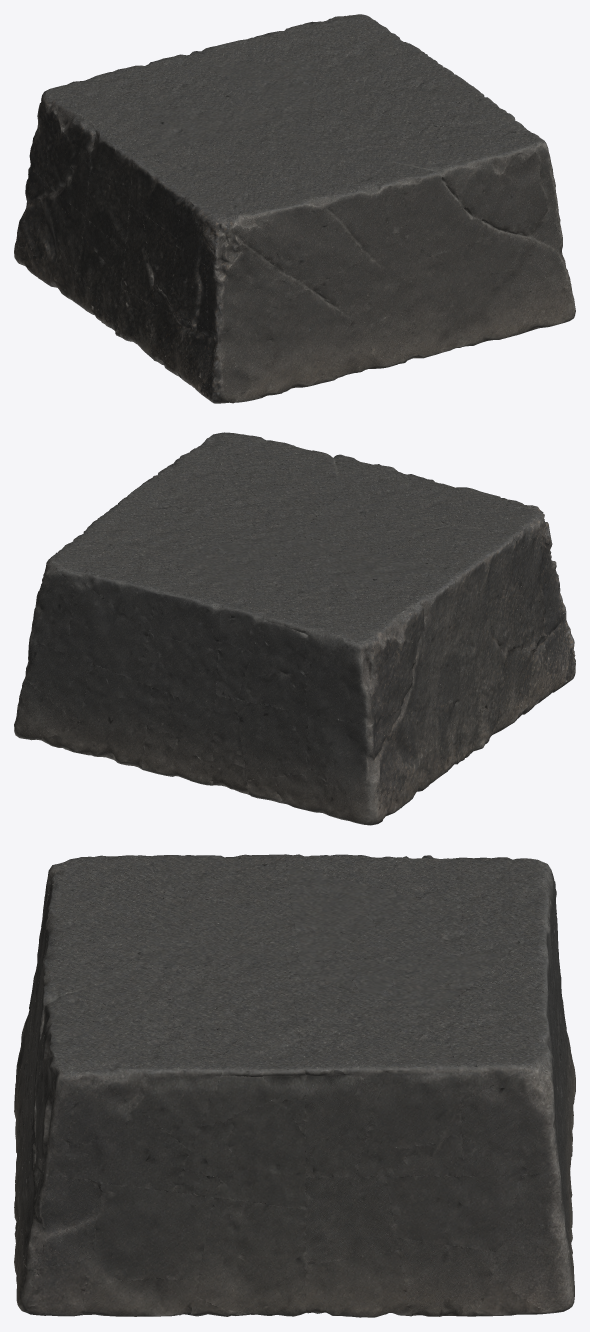
Rendered from cleaned.glb.
3 views of the same model, one above another, from view 1: azimuth 30°, elevation 25°; view 2: azimuth 150°, elevation 25°; view 3: azimuth 270°, elevation 25° (orthographic). The views are drawn at different scales.
Parts seen in each view (by area): view 1: M7 stone-b-m7; view 2: M7 stone-b-m7; view 3: M7 stone-b-m7.
Boxes of the visible parts, box(x1,y1,x2,y2) form: M7 stone-b-m7: box(14, 14, 575, 403); M7 stone-b-m7: box(14, 432, 575, 825); M7 stone-b-m7: box(14, 854, 575, 1317).
Bounding box in the file's own units: 2.19 × 1 × 2.14.
Materials: 1 (1 with a texture image).
